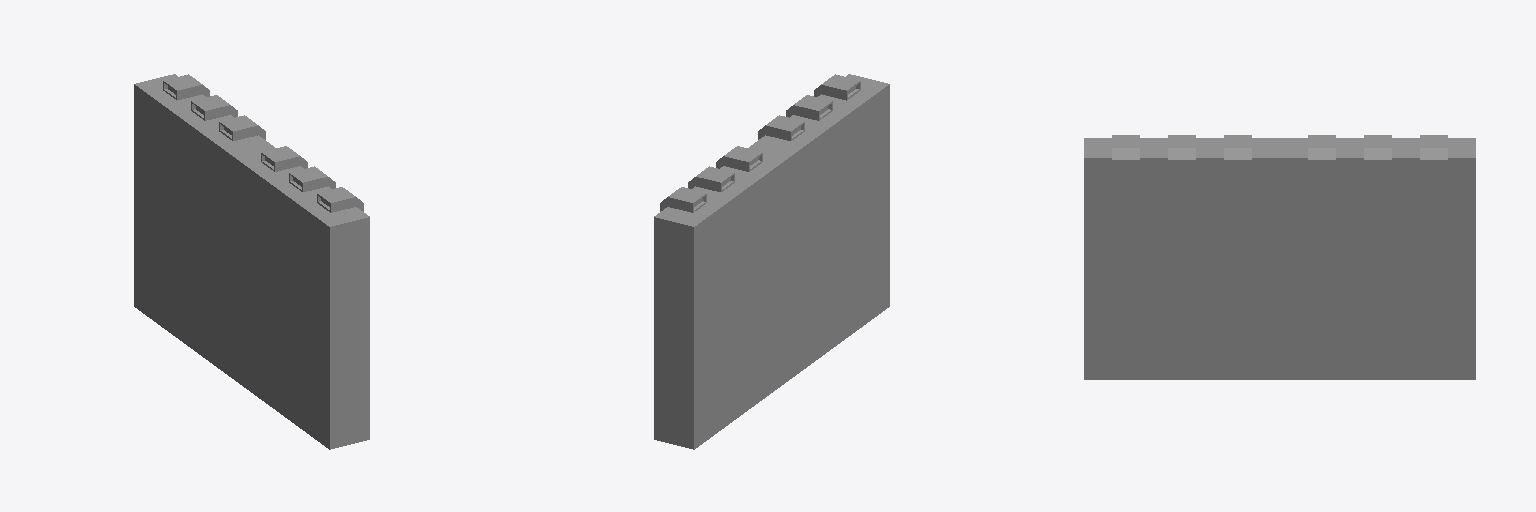
File: muralla.obj
3 renders of one model, left to right at view 1: azimuth 30°, elevation 25°; view 2: azimuth 150°, elevation 25°; view 3: azimuth 270°, elevation 25°, orthographic.
Parts seen in each view (by area): view 1: Cube.002_Cube.003; view 2: Cube.002_Cube.003; view 3: Cube.002_Cube.003.
Boxes of the visible parts, <box> form: Cube.002_Cube.003: <box>134,74,369,449</box>; Cube.002_Cube.003: <box>654,74,889,449</box>; Cube.002_Cube.003: <box>1084,135,1475,379</box>.
Size of the model in its own units: 0.8598 by 3.94 by 6.